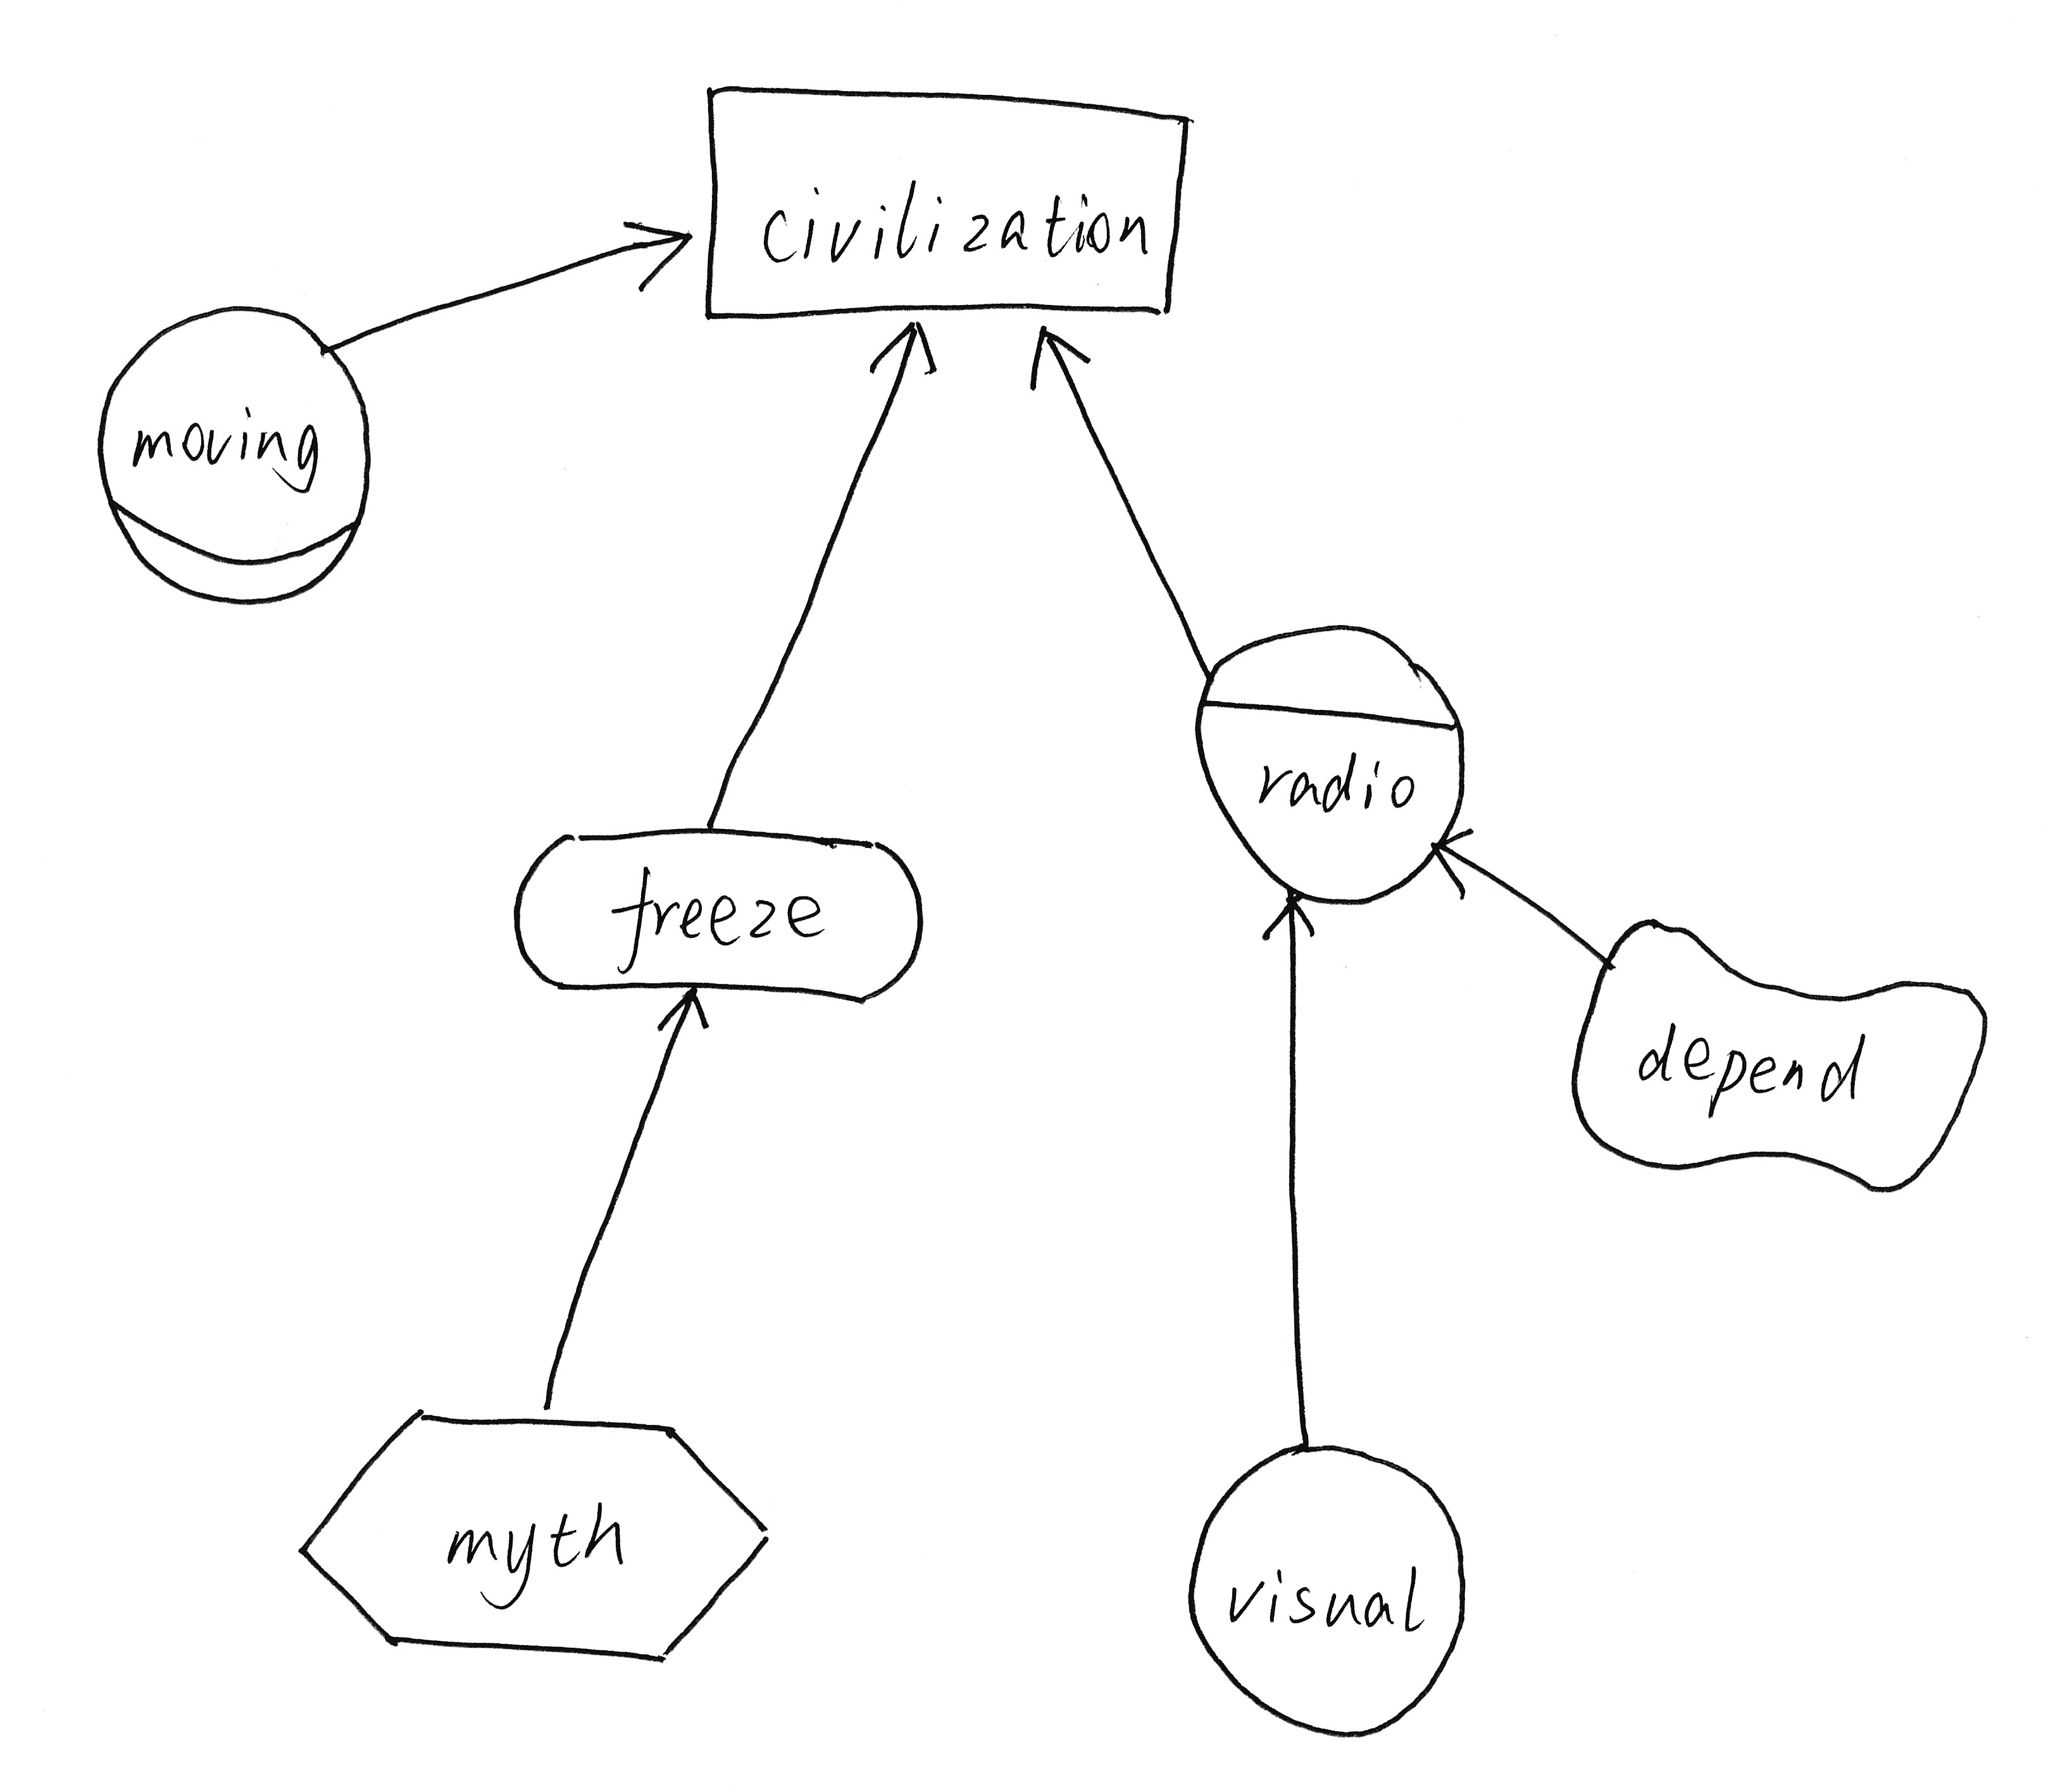actor: (1170, 1427, 1487, 1751)
agent: (1177, 603, 1496, 927)
arrow: (615, 196, 699, 301), (1251, 877, 1337, 967), (855, 310, 943, 395), (1020, 312, 1098, 402), (647, 976, 726, 1052), (1425, 816, 1478, 907)
goal: (500, 807, 936, 1026)
quality: (1549, 902, 2010, 1209)
resource: (677, 60, 1212, 342)
role: (83, 291, 386, 618)
task: (278, 1385, 791, 1679)
